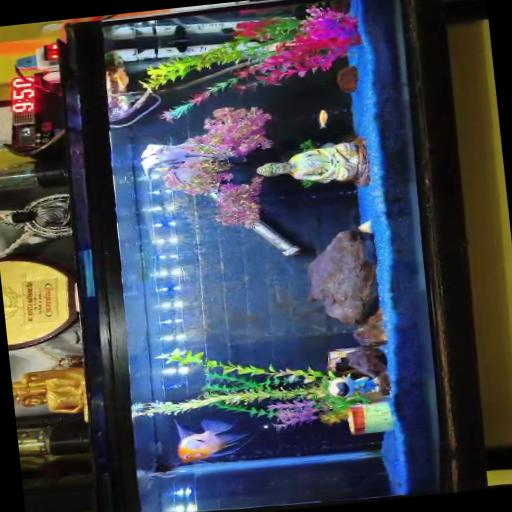Fish: (141, 142, 237, 180), (176, 419, 252, 461), (115, 65, 129, 90), (319, 109, 328, 127)
